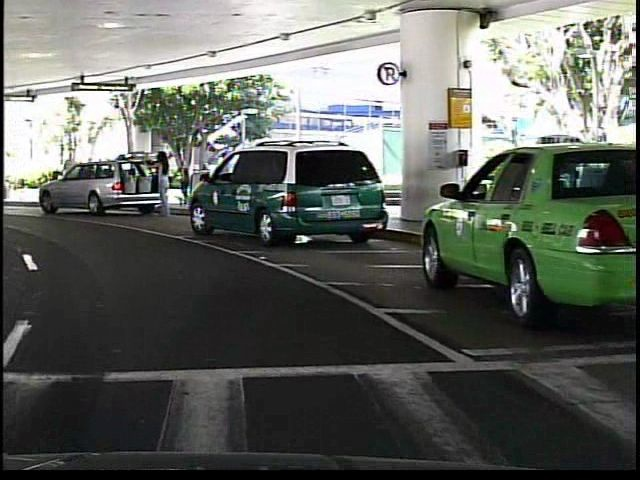person: (151, 144, 170, 223), (55, 148, 79, 200), (170, 155, 190, 212)
